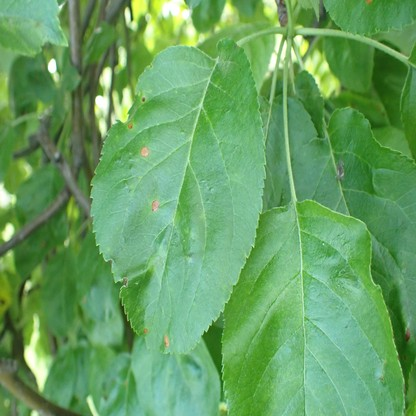frogeye_leaf_spot: (140, 145, 150, 158), (151, 198, 159, 211), (164, 333, 169, 348), (405, 328, 409, 341), (143, 327, 149, 332), (128, 123, 132, 128)
